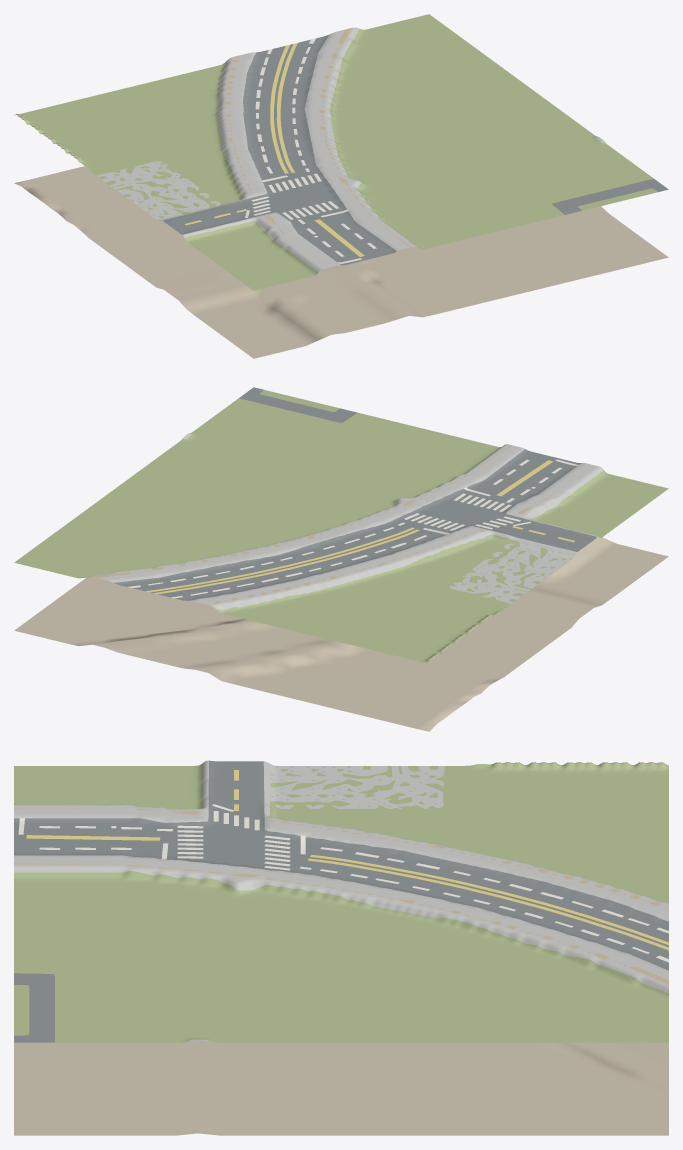
The picture shows the model from 3 angles, top to bottom: view 1: azimuth 30°, elevation 25°; view 2: azimuth 150°, elevation 25°; view 3: azimuth 270°, elevation 25°; orthographic projection. The views are drawn at different scales.
Visible parts, largest first — view 1: s_-9_-2__grass, s_-9_-2__soil, s_-9_-2__asphalt, s_-9_-2__stone_paving, s_-9_-2__white_marking, s_-9_-2__yellow_marking, s_-9_-2__timber_deck; view 2: s_-9_-2__grass, s_-9_-2__soil, s_-9_-2__asphalt, s_-9_-2__stone_paving, s_-9_-2__white_marking, s_-9_-2__yellow_marking, s_-9_-2__timber_deck; view 3: s_-9_-2__grass, s_-9_-2__soil, s_-9_-2__asphalt, s_-9_-2__stone_paving, s_-9_-2__white_marking, s_-9_-2__yellow_marking, s_-9_-2__timber_deck.
Boxes of the visible parts, bbox=[...] form: s_-9_-2__grass: bbox=[14, 14, 658, 290]; s_-9_-2__soil: bbox=[14, 166, 668, 358]; s_-9_-2__asphalt: bbox=[163, 34, 668, 265]; s_-9_-2__stone_paving: bbox=[96, 27, 604, 272]; s_-9_-2__white_marking: bbox=[245, 38, 376, 263]; s_-9_-2__yellow_marking: bbox=[184, 43, 364, 256]; s_-9_-2__timber_deck: bbox=[225, 27, 411, 267]; s_-9_-2__grass: bbox=[14, 390, 668, 663]; s_-9_-2__soil: bbox=[14, 530, 668, 731]; s_-9_-2__asphalt: bbox=[114, 387, 596, 600]; s_-9_-2__stone_paving: bbox=[89, 433, 603, 609]; s_-9_-2__white_marking: bbox=[128, 459, 578, 598]; s_-9_-2__yellow_marking: bbox=[146, 460, 574, 594]; s_-9_-2__timber_deck: bbox=[91, 445, 594, 604]; s_-9_-2__grass: bbox=[14, 762, 668, 1042]; s_-9_-2__soil: bbox=[14, 875, 668, 1135]; s_-9_-2__asphalt: bbox=[14, 760, 668, 1042]; s_-9_-2__stone_paving: bbox=[14, 760, 668, 1041]; s_-9_-2__white_marking: bbox=[18, 804, 668, 962]; s_-9_-2__yellow_marking: bbox=[26, 770, 668, 950]; s_-9_-2__timber_deck: bbox=[14, 808, 668, 984].
Bounding box in the file's own units: 128 × 21.51 × 128.
